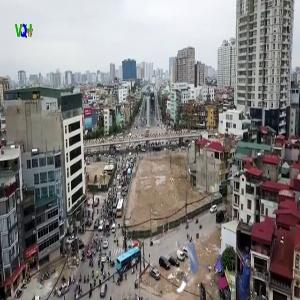drone: (162, 233, 218, 289)
